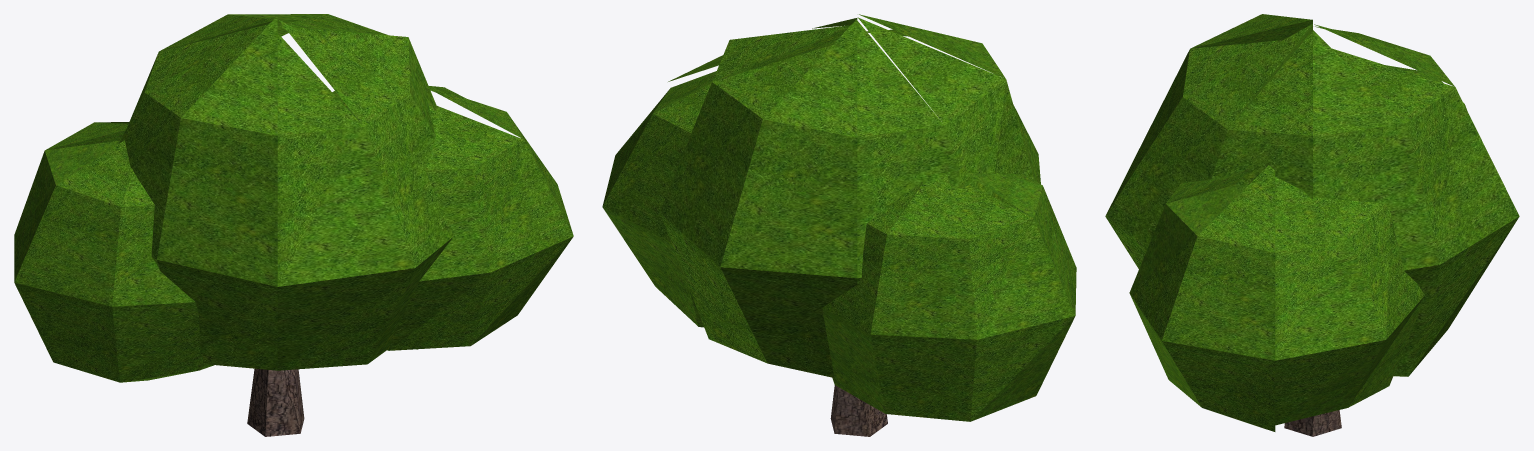
Rendered from bush.glb.
3 views of the same model, side by side, from view 1: azimuth 30°, elevation 25°; view 2: azimuth 150°, elevation 25°; view 3: azimuth 270°, elevation 25° (orthographic).
Parts seen in each view (by area): view 1: _MeshInstance3D_11; view 2: _MeshInstance3D_11; view 3: _MeshInstance3D_11.
Boxes of the visible parts, left/top/right/bottom form: _MeshInstance3D_11: left=14, top=14, right=573, bottom=436; _MeshInstance3D_11: left=602, top=14, right=1076, bottom=436; _MeshInstance3D_11: left=1105, top=14, right=1519, bottom=436.
Size of the model in its own units: 1.51 by 1.18 by 1.09.
2 materials, 2 textured.
